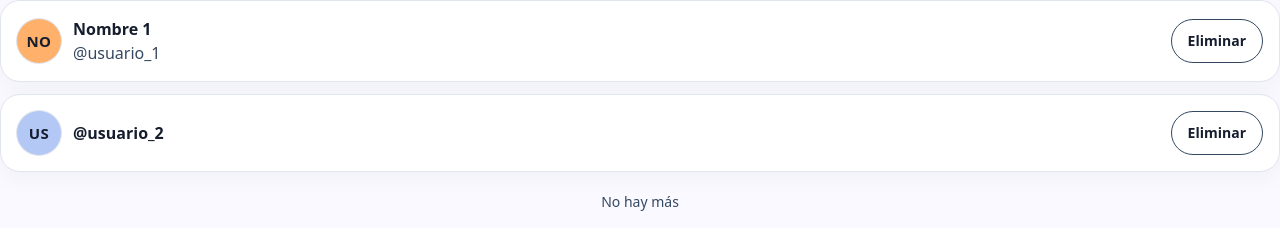
it: FollowList › Eliminar pide confirmación y quita a la persona de la lista
Click the button "Eliminar" in the row of "usuario_1" at (1217, 41), box [1171,19,1263,63]
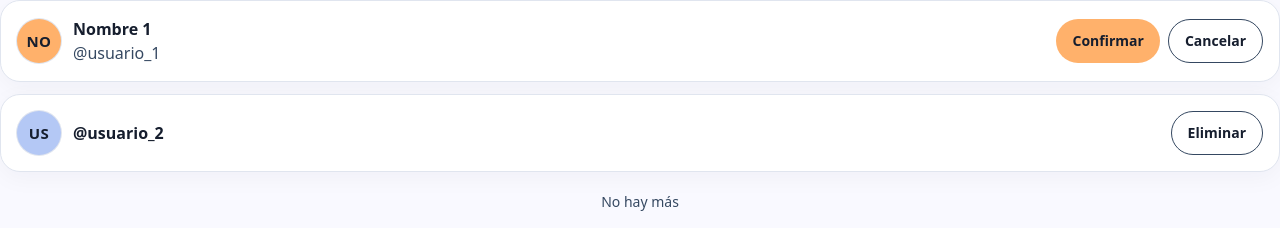
Click the button "Confirmar" at (1108, 41), box [1056,19,1160,63]
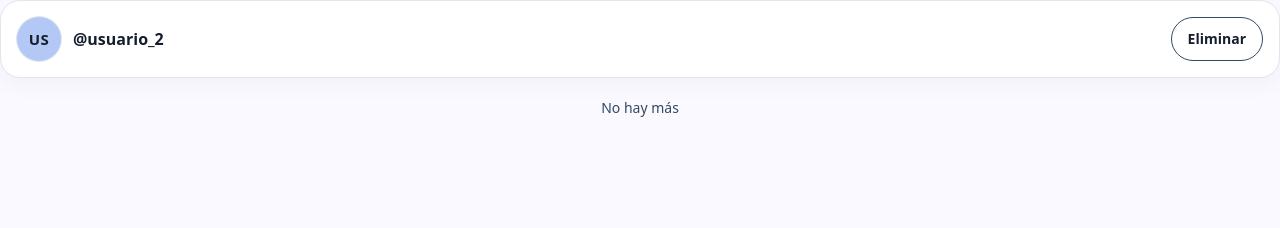
Result: the number of list items is 1 at [0,0,1279,78]
Result: the link "usuario_1" is gone
